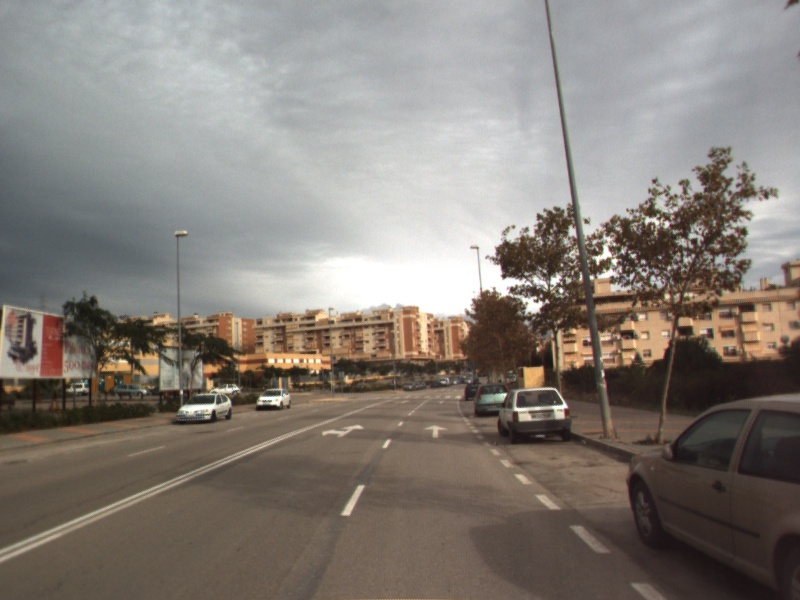STRAIGHT: (422, 422, 450, 440)
STRAIGHT_LEFT: (320, 422, 366, 439)
